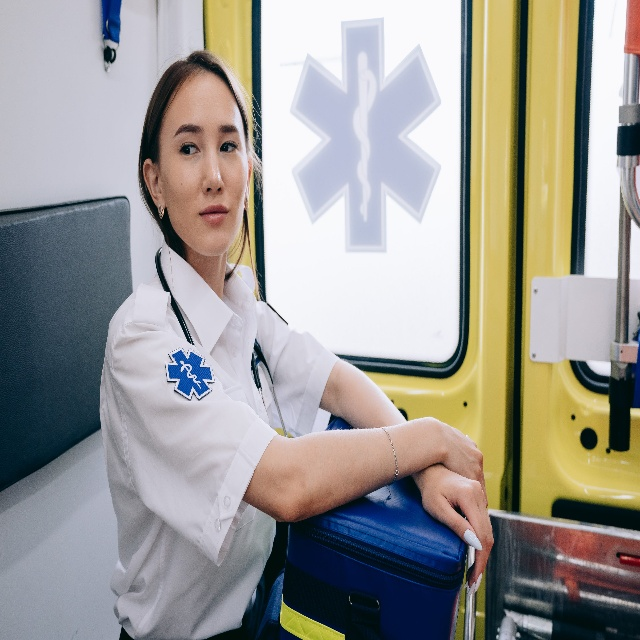Sin_guantes: (420, 462, 495, 592), (435, 416, 492, 504)
